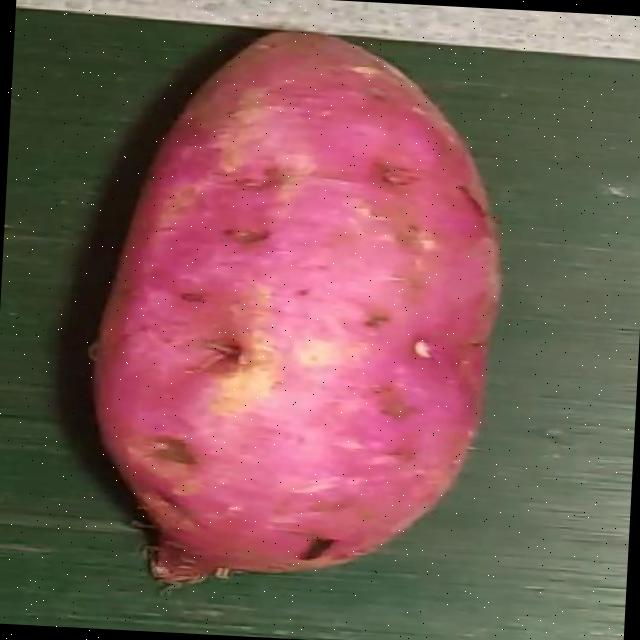Sweet Potato: (91, 32, 498, 584)
